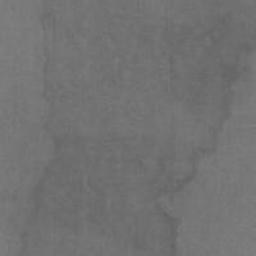Water spot: (17, 0, 256, 256)
